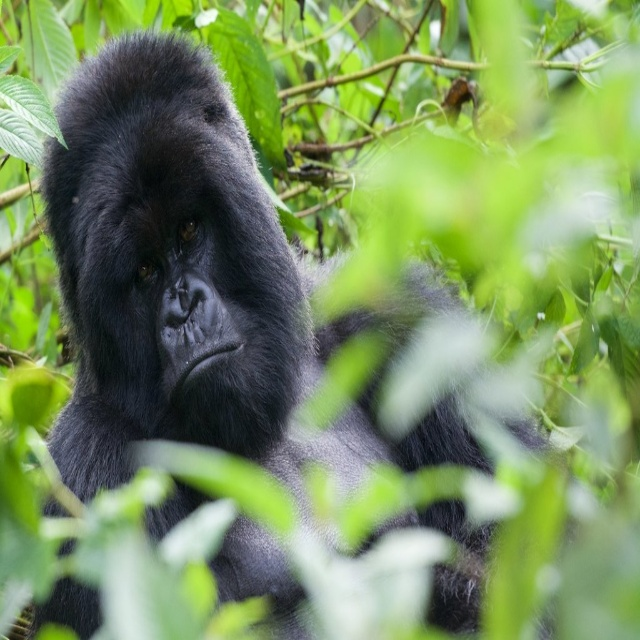Monkey: (43, 33, 577, 639)
